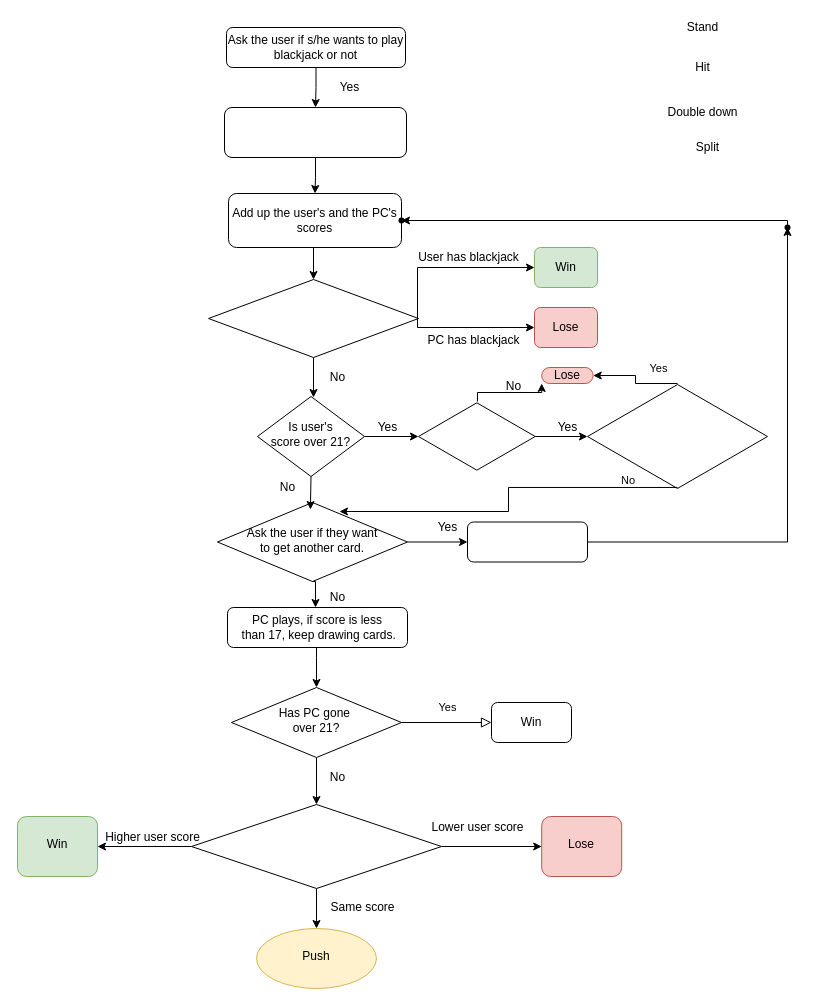
The diagram is 825 pixels wide and 1006 high, and some of its shapes have lost their labels. The shapes that lost their labels are listed below. From the top down, each one's centre as x and y in pixels, then its label:
pixel 315 132: The user and computer should each get 2 random cards.
pixel 313 318: Does the user or computer have a blackjack? (ace + 10)
pixel 476 436: Do they have an "Ace"?
pixel 677 436: If the ace counts as a 1 instead of 11, are they still over 21?
pixel 527 541: Draw another card
pixel 316 846: Compare user score with PC score to see if user score is higher?
